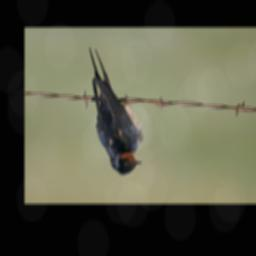Swallow: (86, 47, 143, 176)
